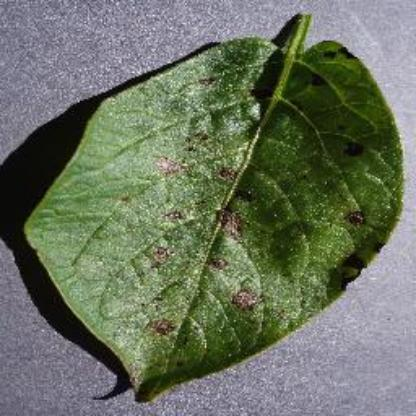Early-Blight: (20, 12, 404, 402)
